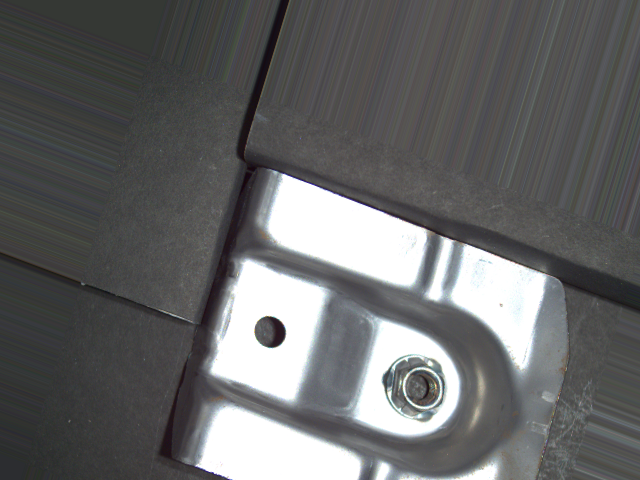good: (382, 348, 449, 425)
